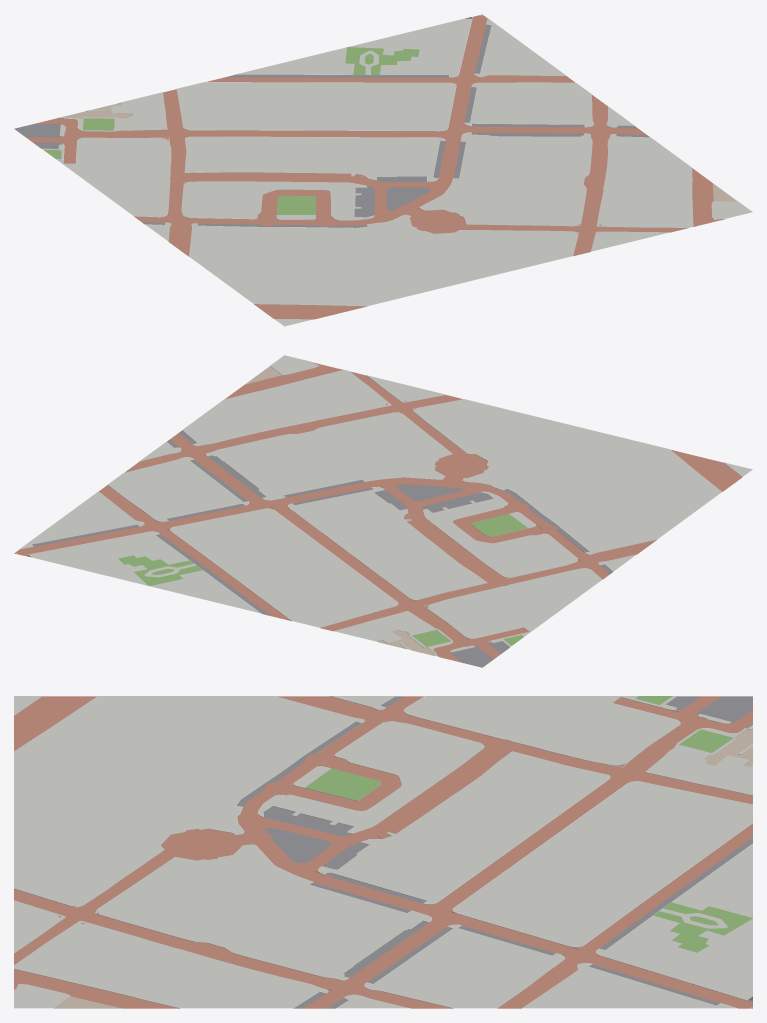
File: ground_9_9.glb
The picture shows the model from 3 angles, top to bottom: view 1: azimuth 30°, elevation 25°; view 2: azimuth 150°, elevation 25°; view 3: azimuth 270°, elevation 25°; orthographic projection. The views are drawn at different scales.
Parts seen in each view (by area): view 1: ground_9_9; view 2: ground_9_9; view 3: ground_9_9.
Boxes of the visible parts, left/top/right/bottom form: ground_9_9: left=14, top=14, right=752, bottom=326; ground_9_9: left=14, top=355, right=752, bottom=667; ground_9_9: left=14, top=696, right=752, bottom=1008.
Size of the model in its own units: 200 by 0.12 by 200.
